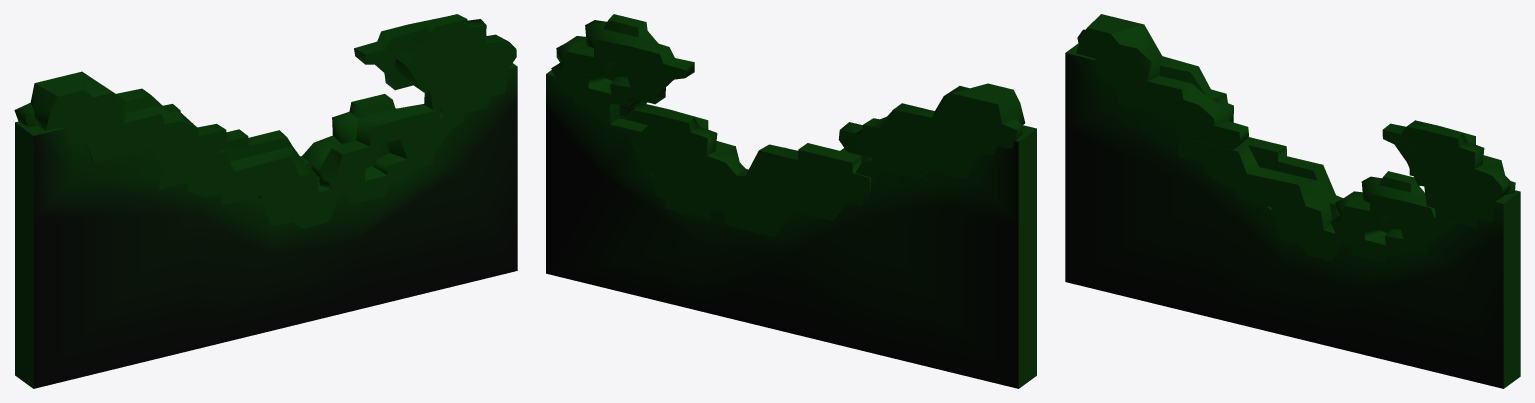
The model's file is DBK_Brick_Tile_A.fbx.
3 renders of one model, left to right at view 1: azimuth 30°, elevation 25°; view 2: azimuth 150°, elevation 25°; view 3: azimuth 330°, elevation 25°, orthographic. The views are drawn at different scales.
Visible parts, largest first — view 1: DBK_Brick_Tile_A; view 2: DBK_Brick_Tile_A; view 3: DBK_Brick_Tile_A.
Part boxes in pixels (x1,y1,x2,y2): DBK_Brick_Tile_A: [14, 14, 517, 388]; DBK_Brick_Tile_A: [546, 14, 1036, 388]; DBK_Brick_Tile_A: [1065, 14, 1520, 388].
Size of the model in its own units: 300 by 170 by 21.
